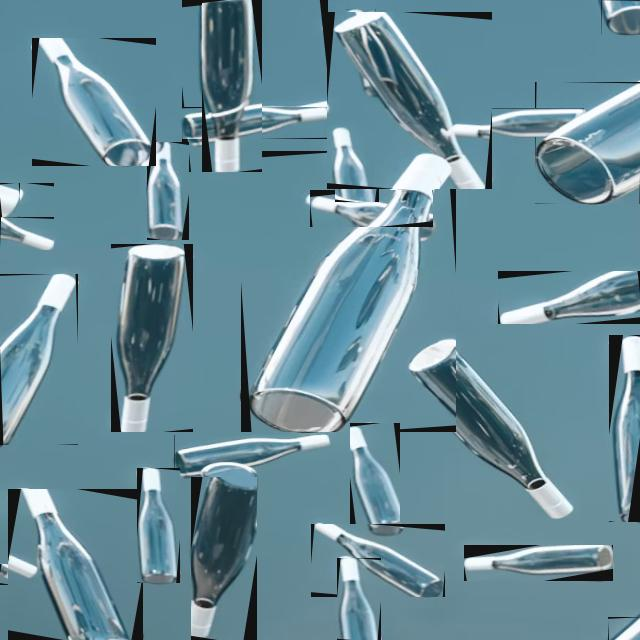Bottle: (242, 152, 455, 432), (404, 346, 572, 518), (328, 13, 491, 188), (183, 0, 328, 171), (9, 489, 142, 639), (32, 39, 155, 165), (111, 245, 193, 431), (0, 275, 77, 445), (536, 82, 639, 203), (191, 464, 257, 639), (202, 0, 262, 171), (312, 524, 444, 597), (499, 272, 639, 323), (174, 436, 329, 477), (610, 335, 639, 521), (350, 424, 399, 534), (312, 152, 385, 225), (464, 546, 613, 580), (137, 468, 180, 583), (148, 143, 188, 240), (0, 183, 54, 250), (455, 109, 584, 136), (338, 559, 380, 639), (335, 132, 378, 202), (233, 107, 329, 137), (311, 191, 386, 226), (0, 217, 54, 250), (601, 0, 639, 34), (0, 564, 38, 584), (608, 617, 639, 639), (0, 183, 20, 216), (359, 80, 375, 99)
